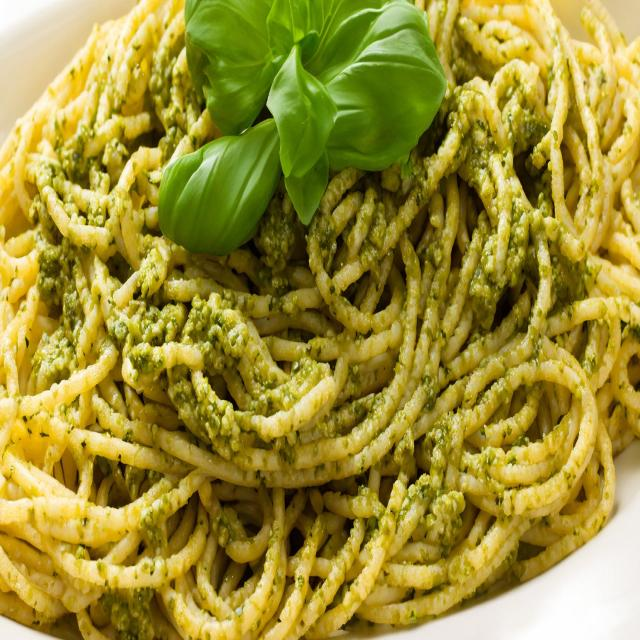pasta: (1, 2, 638, 633)
